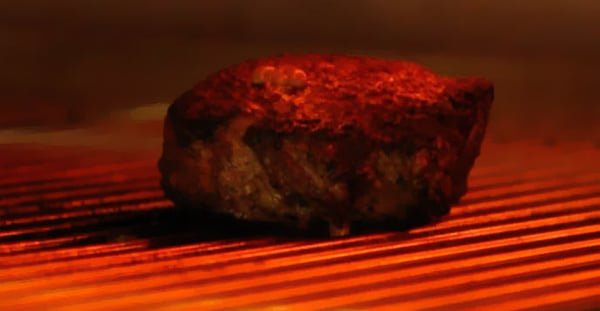sandwich: (157, 53, 496, 234)
sushi: (158, 53, 495, 235)
